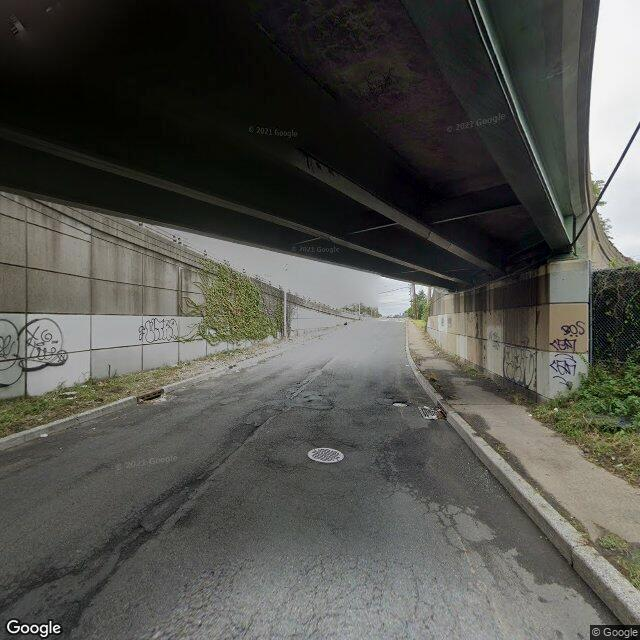pothole: (115, 515, 162, 545)
